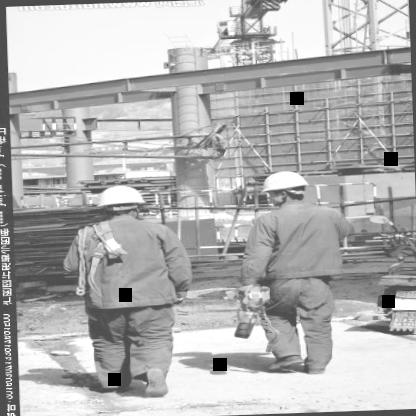helmet: (92, 181, 150, 226), (256, 166, 314, 210)
